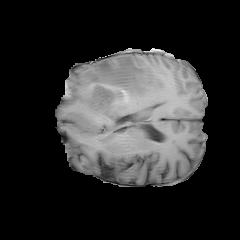glioma: (82, 55, 165, 124)
